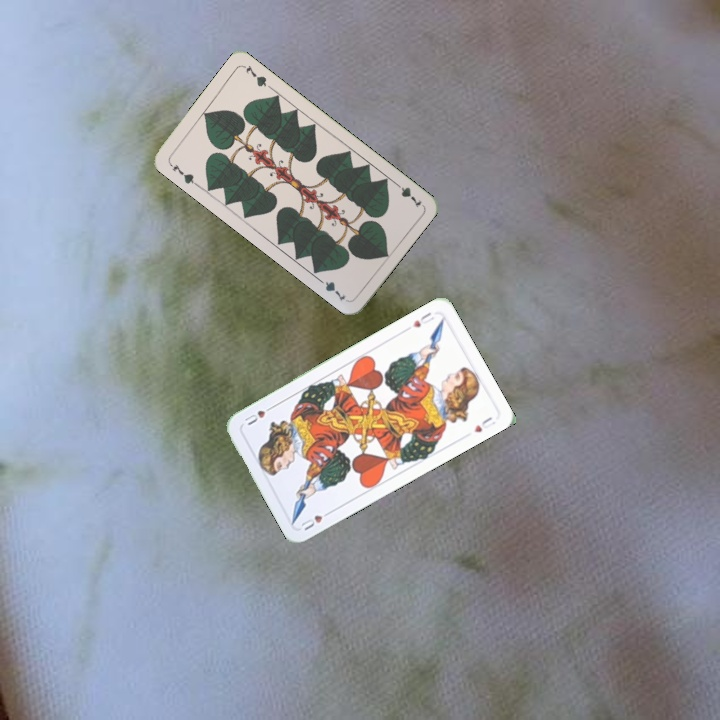G7: (390, 177, 425, 210), (165, 159, 200, 189)
HU: (297, 507, 334, 533), (408, 308, 437, 330)
